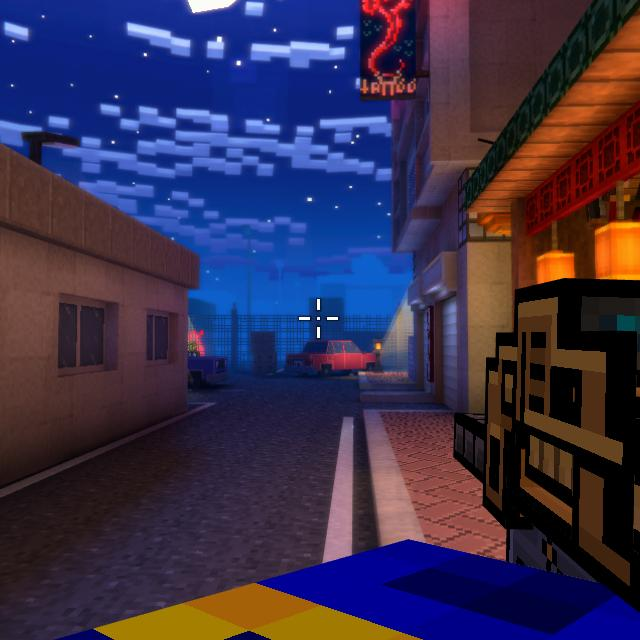Enemy: (187, 341, 199, 357)
